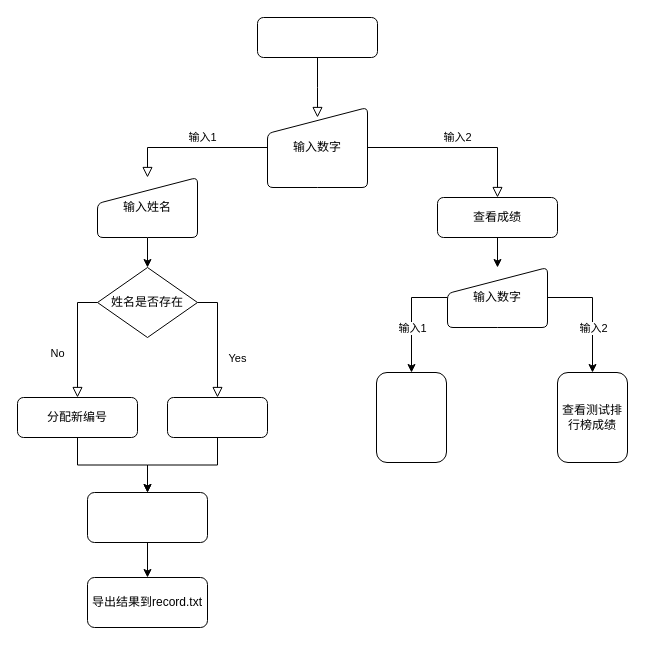
The diagram is 645 pixels wide and 645 high, and some of its shapes have lost their labels. The centre of each missing label's shape, as x and y in pixels:
"开始" belongs at (317,37).
"查找到相应编号" belongs at (217,417).
"查看指定学生总成绩" belongs at (411,417).
"进行测试" belongs at (147,517).
